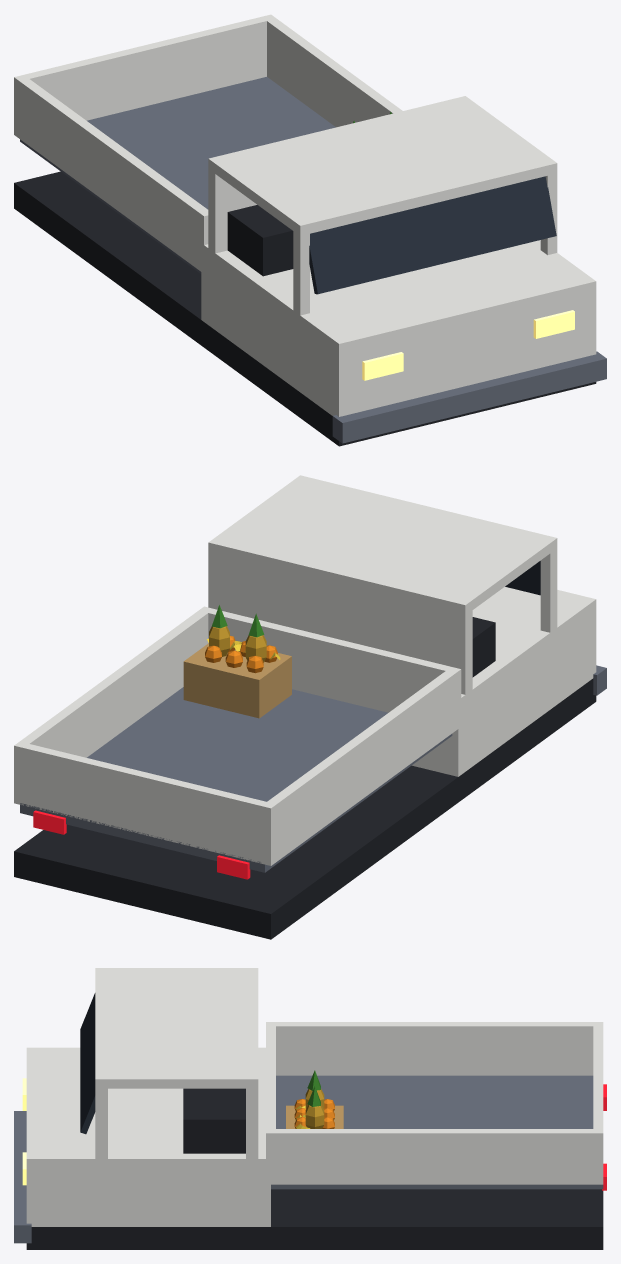
Rendered from fruit_truck.glb.
3 views of the same model, one above another, from view 1: azimuth 30°, elevation 25°; view 2: azimuth 150°, elevation 25°; view 3: azimuth 270°, elevation 25° (orthographic). The views are drawn at different scales.
Parts seen in each view (by area): view 1: paint_fruit_paint, body_car_black, body_truck_glass, bed_car_grey, body_car_grey, lights_lamp; view 2: paint_fruit_paint, body_car_black, bed_car_grey, crate_bananas_crate_wood, lights_tail, crate_oranges_orange_fruit, crate_pineapples_pineapple, body_truck_glass; view 3: paint_fruit_paint, body_car_black, bed_car_grey, body_truck_glass, body_car_grey, crate_oranges_orange_fruit, crate_pineapples_pineapple, crate_bananas_crate_wood.
Part boxes in pixels (x1,y1,x2,y2): paint_fruit_paint: [14, 14, 596, 416]; body_car_black: [14, 171, 596, 446]; body_truck_glass: [309, 176, 556, 294]; bed_car_grey: [20, 77, 335, 273]; body_car_grey: [332, 351, 606, 443]; lights_lamp: [362, 310, 574, 380]; paint_fruit_paint: [14, 475, 596, 865]; body_car_black: [14, 617, 596, 939]; bed_car_grey: [20, 687, 452, 872]; crate_bananas_crate_wood: [183, 643, 291, 718]; lights_tail: [33, 810, 250, 879]; crate_oranges_orange_fruit: [205, 635, 277, 673]; crate_pineapples_pineapple: [209, 626, 266, 662]; body_truck_glass: [505, 561, 540, 595]; paint_fruit_paint: [26, 968, 603, 1226]; body_car_black: [26, 1088, 603, 1249]; bed_car_grey: [271, 1075, 603, 1189]; body_truck_glass: [80, 993, 95, 1134]; body_car_grey: [14, 1111, 31, 1243]; crate_oranges_orange_fruit: [294, 1099, 334, 1128]; crate_pineapples_pineapple: [305, 1089, 324, 1128]; crate_bananas_crate_wood: [286, 1105, 343, 1128].
Size of the model in its own units: 2.16 by 1.5 by 4.73.
